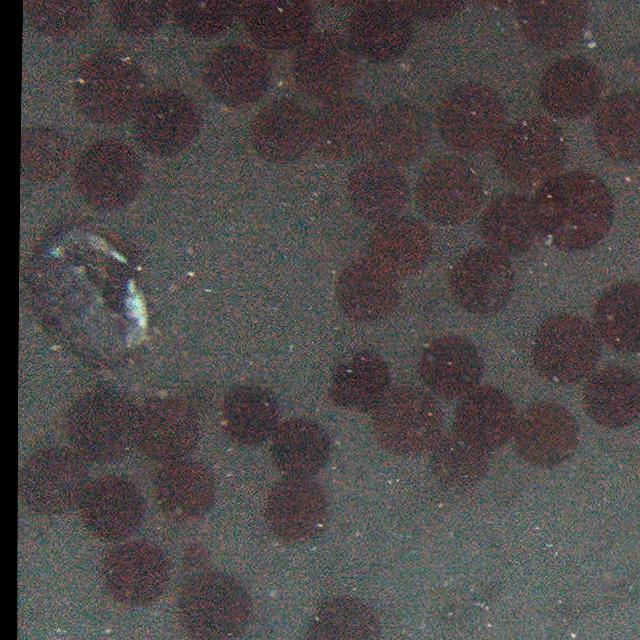crab: (28, 230, 153, 374)
